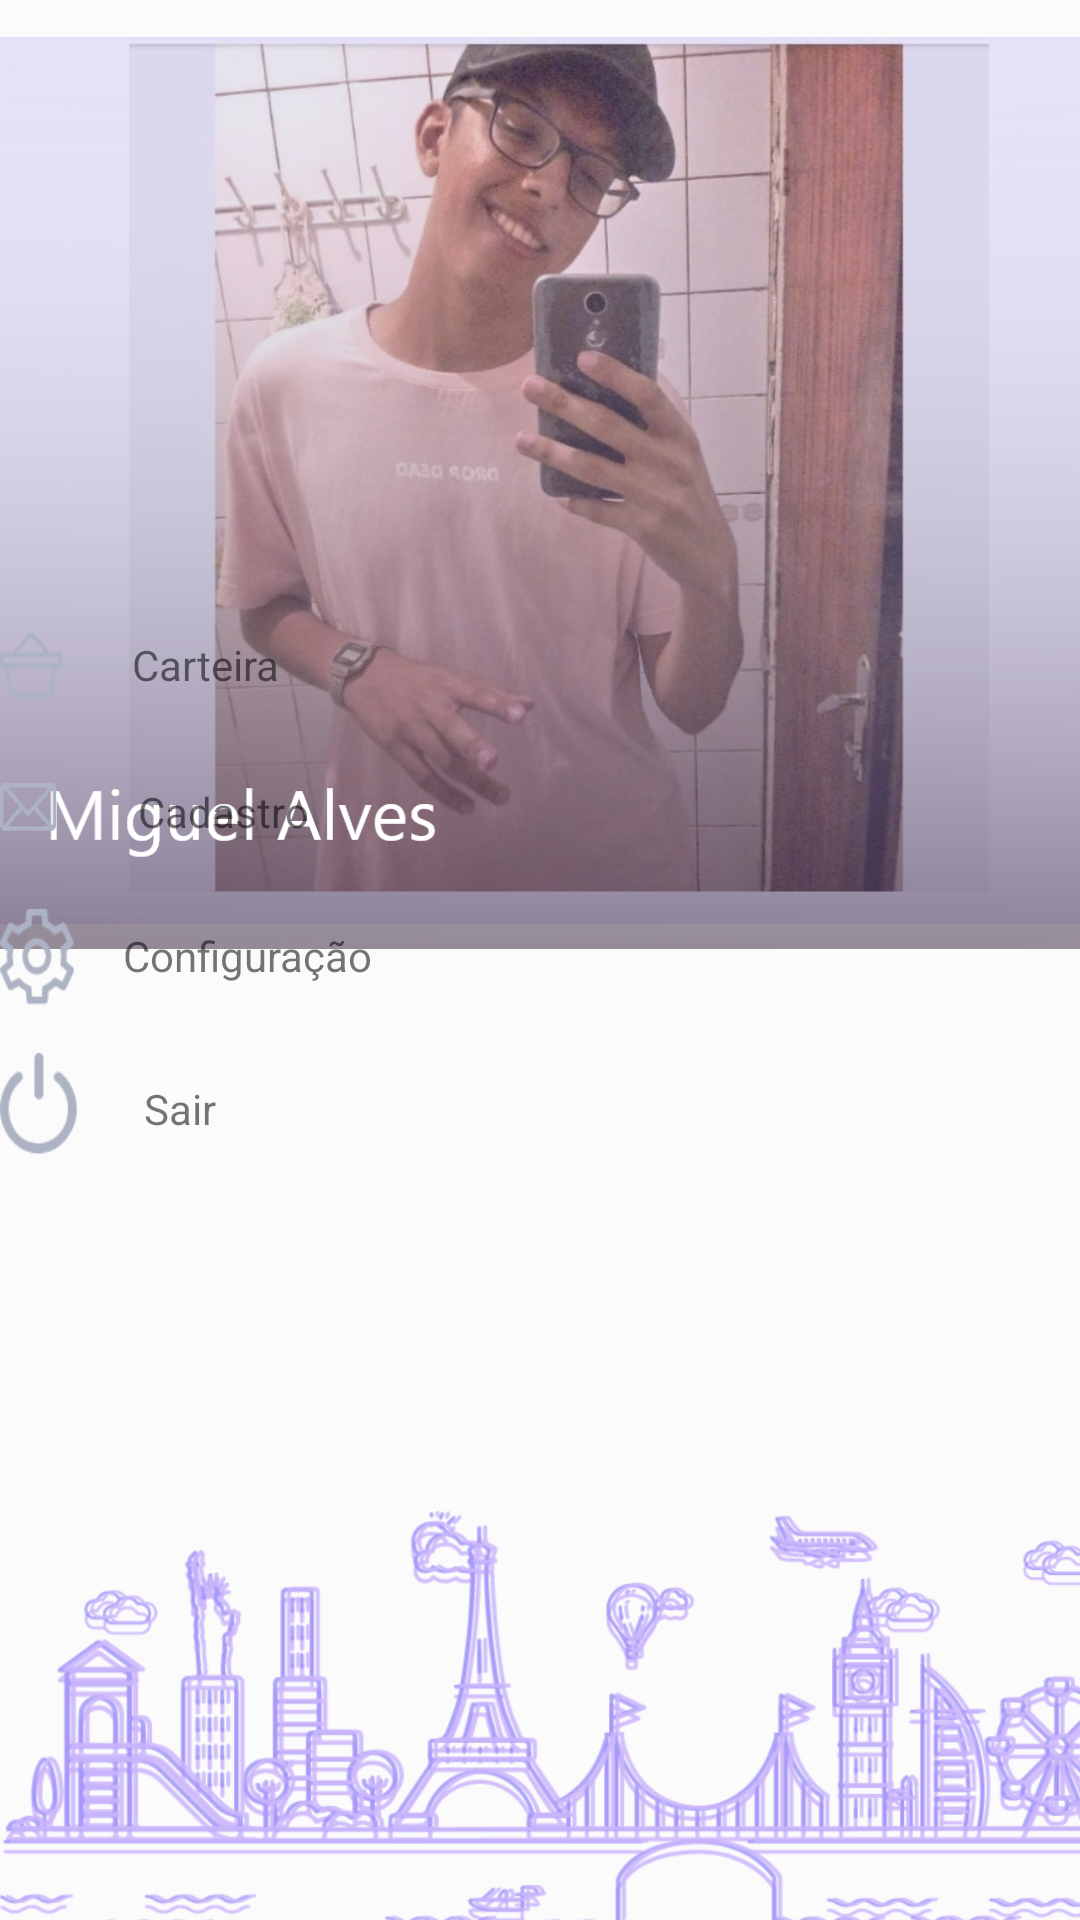

Screen size 1080*1920. Icon name, then its center in pixels as (x=x, y=y):
configure: (x=37, y=957)
